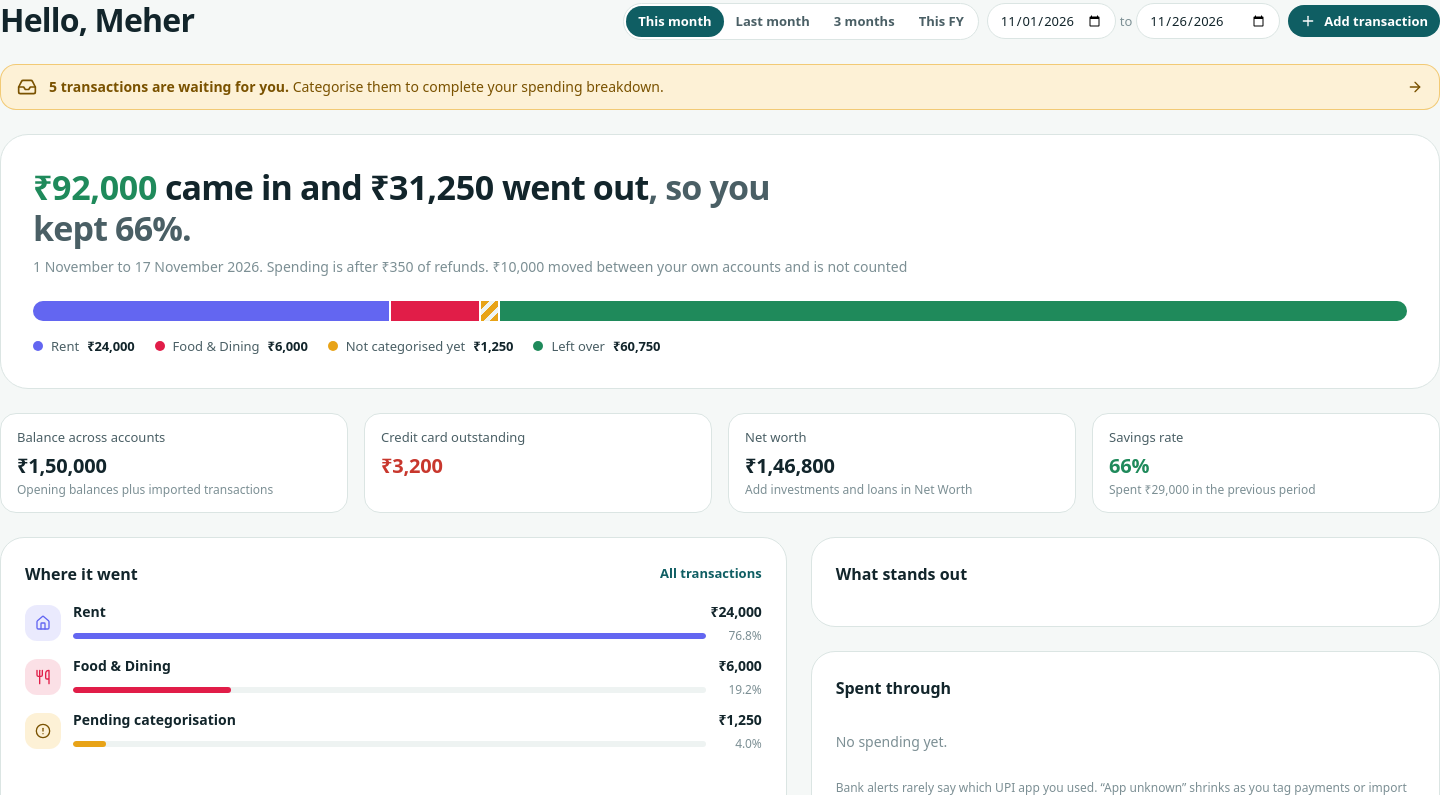
Test: dashboard add transaction › the header button opens it too
Step 1. Click the button "Add transaction" → (1364, 21), box 1288,5 -> 1439,37
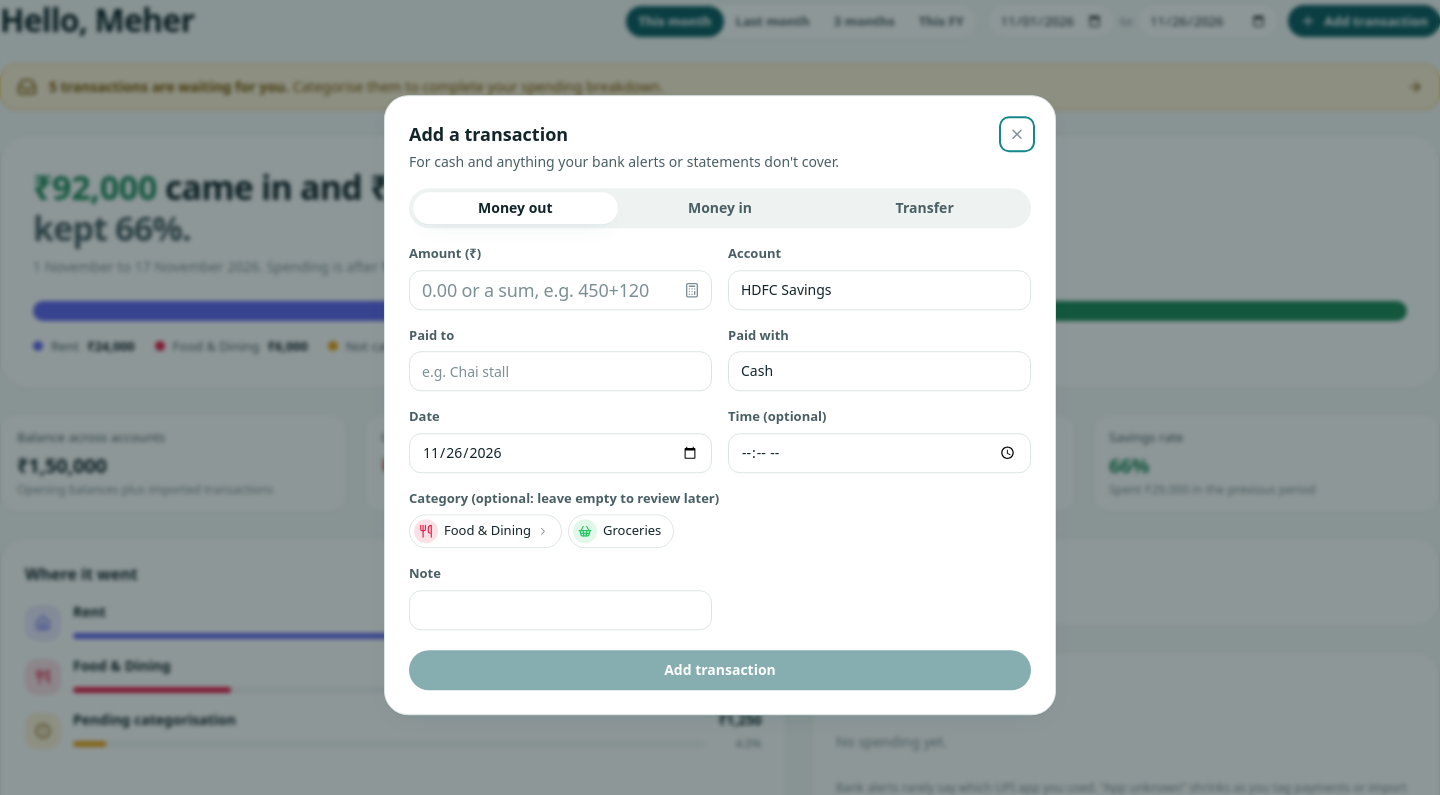
Expected: the dialog is shown, 384,95 -> 1056,715
